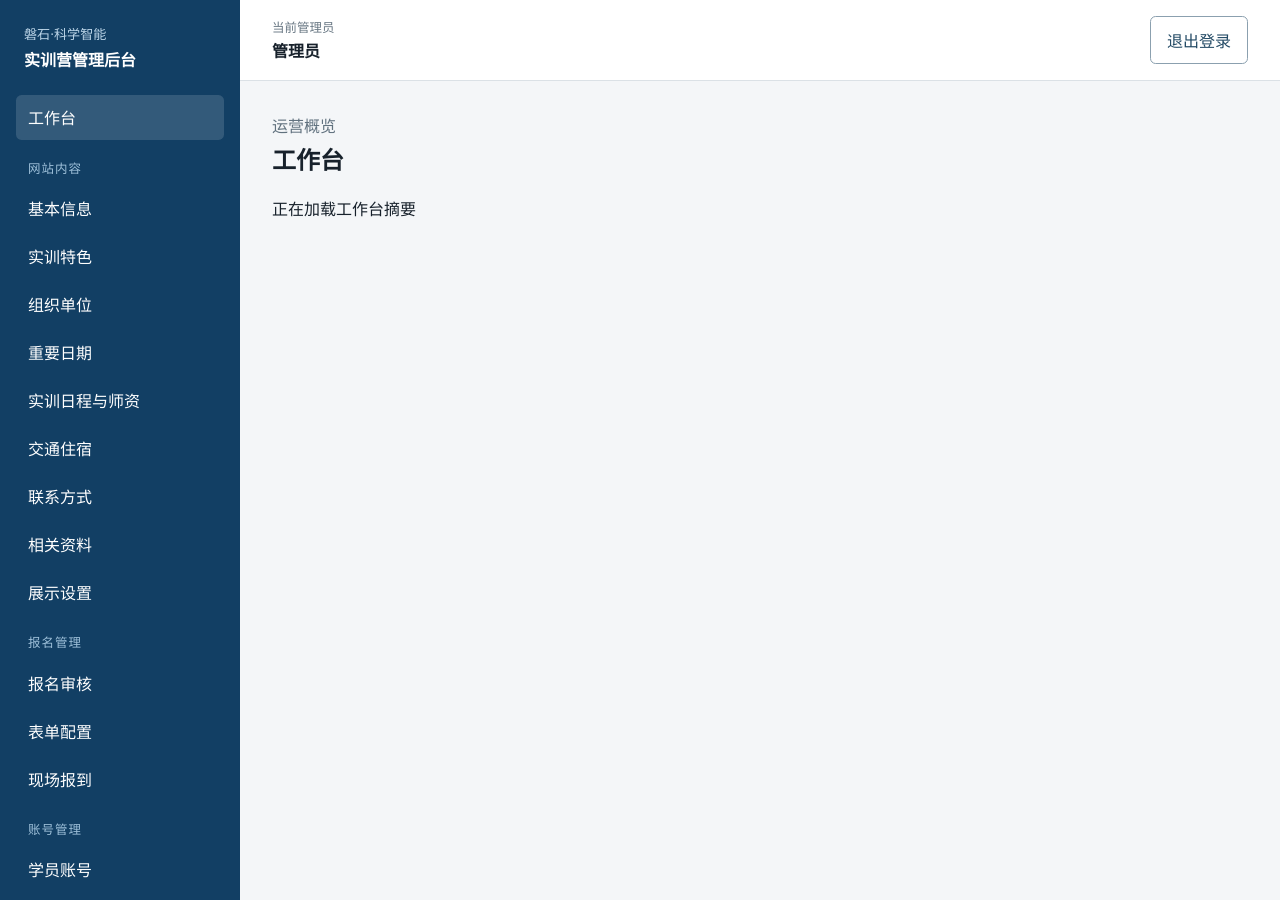
Test: administrator route guard › renders the protected shell for an administrator and logs out through the backend
Check: the heading "工作台" is shown, box left=272, top=141, right=344, bottom=176
Click the button "退出登录" at (1199, 40), box left=1150, top=16, right=1248, bottom=64
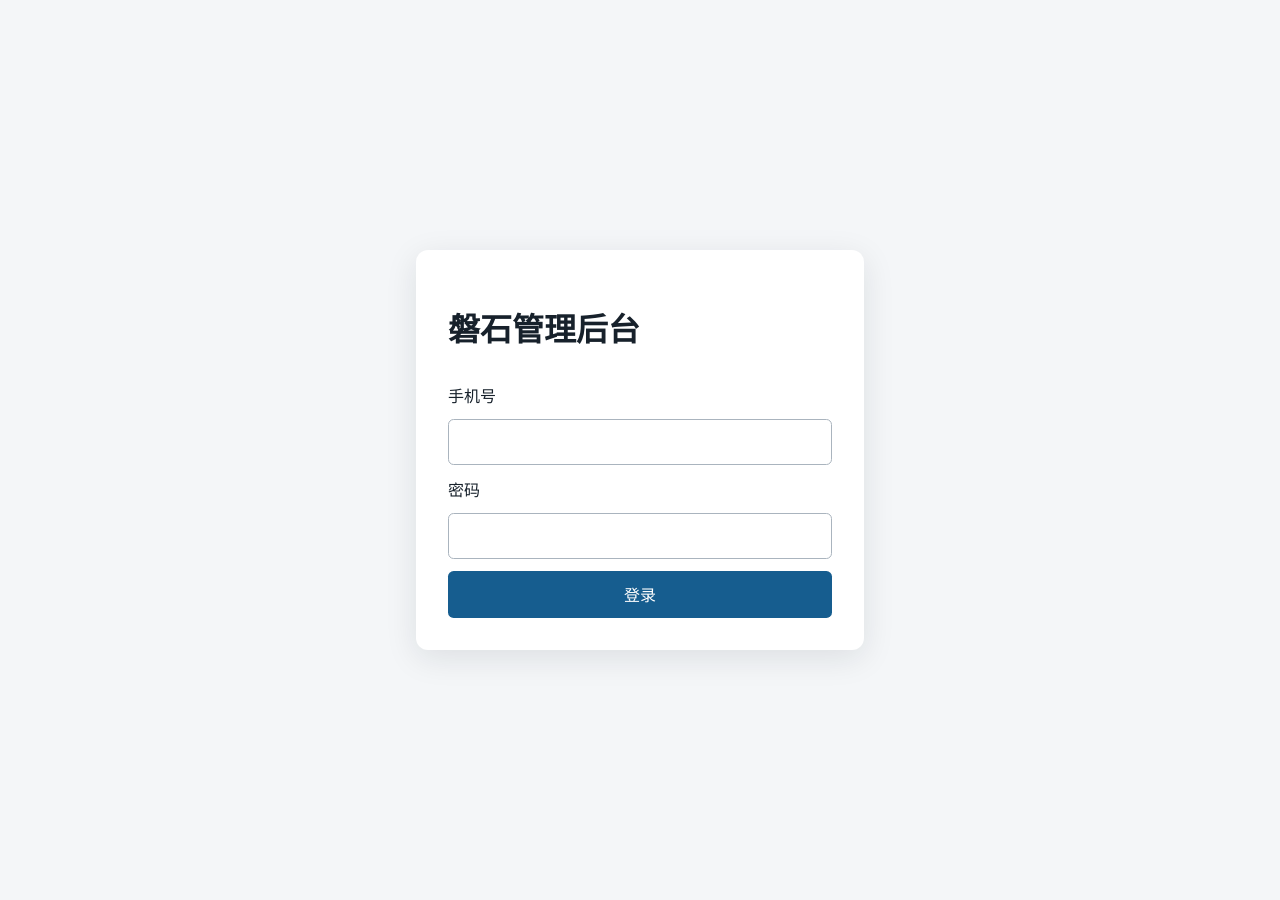
Check: the field labelled "手机号" is shown, box left=448, top=419, right=832, bottom=465
